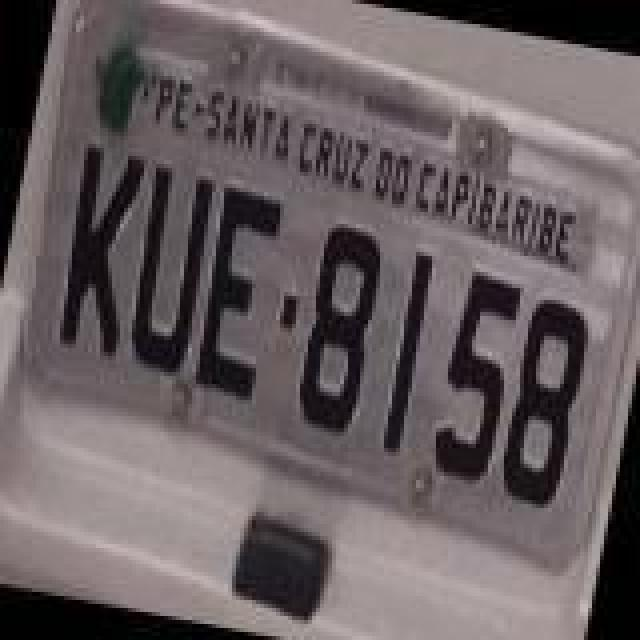1: (374, 240, 442, 464)
5: (420, 264, 524, 488)
8: (488, 284, 600, 516), (282, 216, 390, 440)
E: (184, 174, 296, 402)
K: (44, 134, 156, 362)
U: (114, 160, 222, 376)
